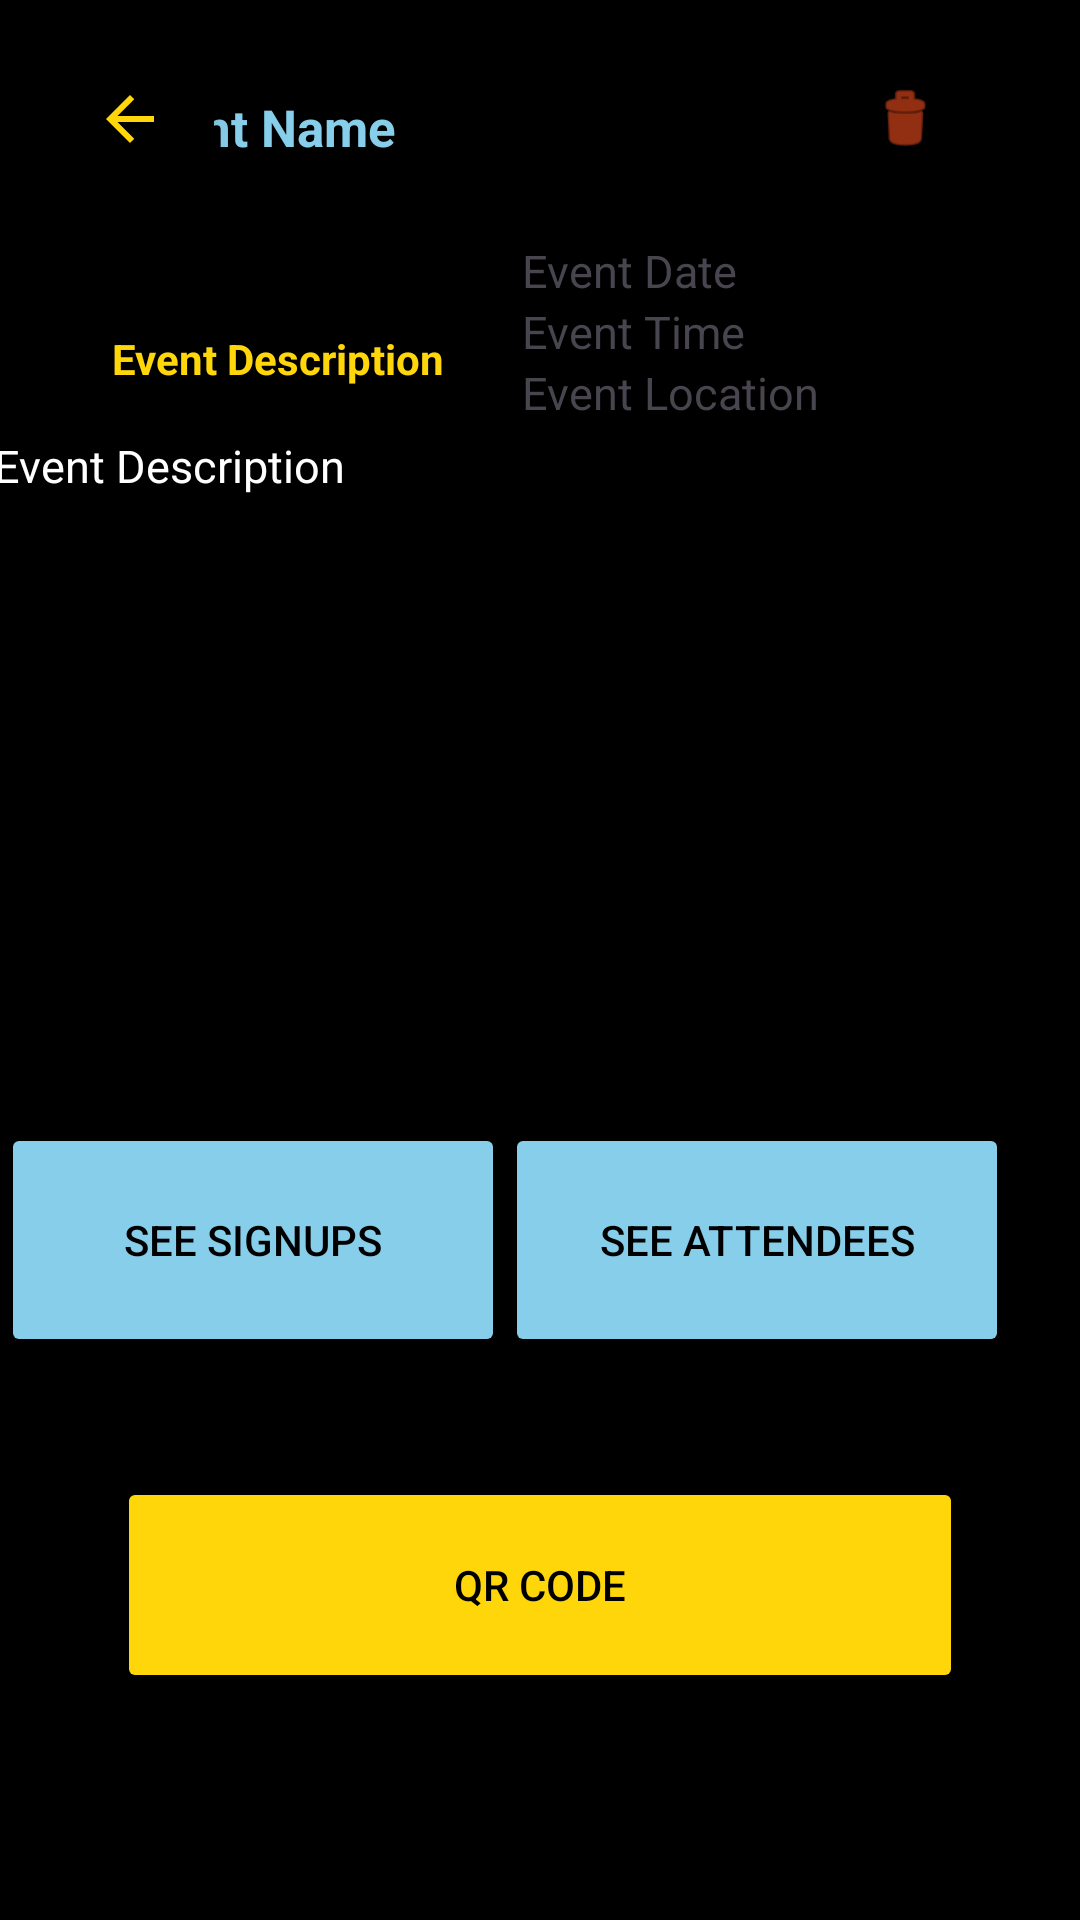

Where to tap for icons on this 1080px×1920px app screen, as (x=x, y=y):
arrow back: (x=130, y=119)
delete: (x=905, y=118)
